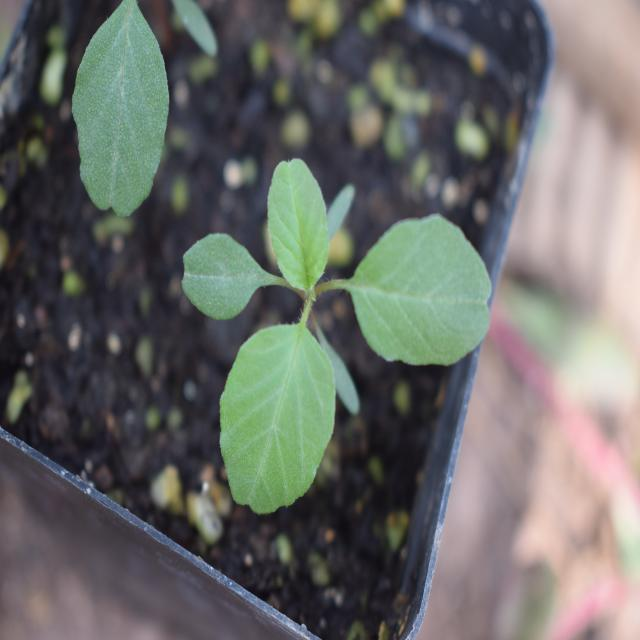pigweed: (185, 153, 484, 504)
